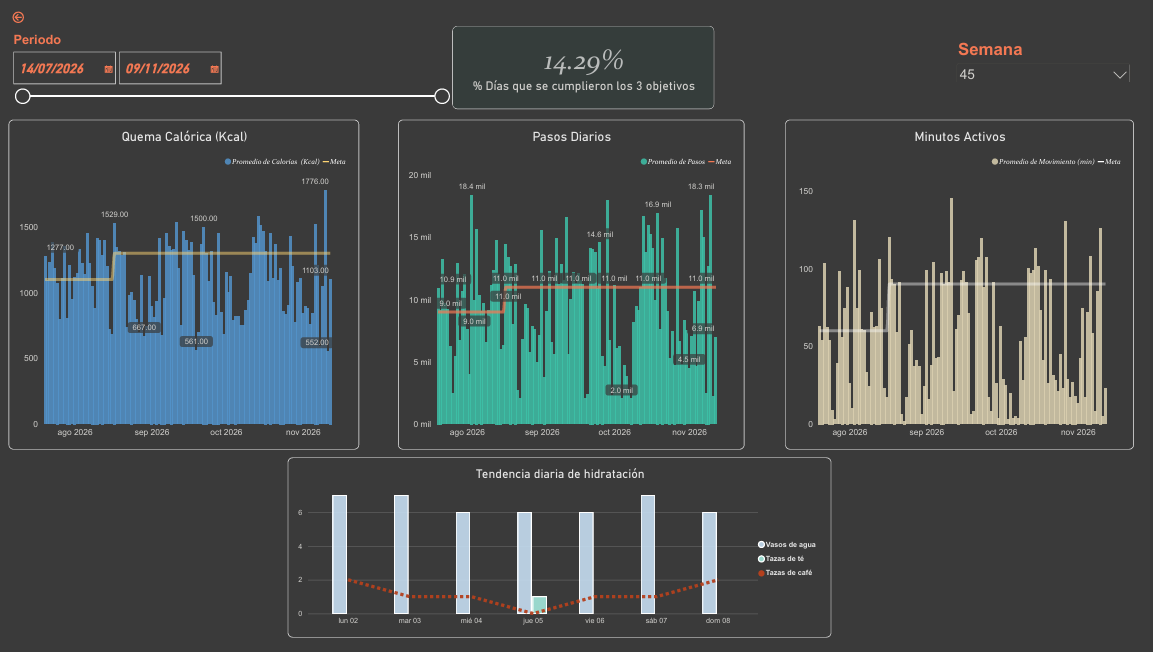

What the dashboard file says about the page in this screenshot:
{"tool":"powerbi","page":{"name":"Actividad","canvas":[1920,1080],"ordinal":3},"visuals":[{"type":"slicer","fields":{"Values":["TB_Salud.Semana"]},"box":[1594.7,77.1,300,70],"z":0},{"type":"slicer","fields":{"Values":["TB_Salud.Inicio"]},"box":[24.5,64.9,737.1,145.7],"z":1000},{"type":"lineClusteredColumnComboChart","title":"Quema Calórica (Kcal)","fields":{"Category":["TB_Entrenamiento.Fecha"],"Y":["Avg(TB_Entrenamiento.Calorías  (Kcal))"],"Y2":["TB_Entrenamiento.Meta_Calorias"]},"box":[23.9,210.1,582.6,548],"z":2000},{"type":"lineClusteredColumnComboChart","title":"Pasos Diarios","fields":{"Category":["TB_Entrenamiento.Fecha"],"Y":["Avg(TB_Entrenamiento.Pasos)"],"Y2":["TB_Entrenamiento.Meta_Steps"]},"box":[671.7,210.1,575.9,548],"z":3000},{"type":"lineClusteredColumnComboChart","title":"Minutos Activos","fields":{"Category":["TB_Entrenamiento.Fecha"],"Y":["Avg(TB_Entrenamiento.Movimiento (min))"],"Y2":["TB_Entrenamiento.Meta_Movimiento"]},"box":[1315.4,210.1,579.9,548],"z":4000},{"type":"lineClusteredColumnComboChart","title":"Tendencia diaria de hidratación","fields":{"Category":["TB_Entrenamiento.Fecha"],"Y":["Sum(TB_Entrenamiento.Vasos de agua)","Sum(TB_Entrenamiento.Taza de té)"],"Y2":["Sum(TB_Entrenamiento.Tazas de café)"]},"box":[488.1,771.4,904.4,299.3],"z":5000},{"type":"cardVisual","fields":{"Data":["TB_Entrenamiento.% Dias_Exito_Total"]},"box":[761.7,54.8,435.6,138.5],"z":7000},{"type":"actionButton","box":[0,0,80,80],"z":8000}]}

Visuals, with their boxes in screenshot pixels (x1, y1, x2, y2), scaled from the page's 1920x1080 canvas onto the 1153x652 screenshot:
slicer - TB_Salud.Semana: bbox=(958, 47, 1138, 89)
slicer - TB_Salud.Inicio: bbox=(15, 39, 457, 127)
"Quema Calórica (Kcal)" lineClusteredColumnComboChart: bbox=(14, 127, 364, 458)
"Pasos Diarios" lineClusteredColumnComboChart: bbox=(403, 127, 749, 458)
"Minutos Activos" lineClusteredColumnComboChart: bbox=(790, 127, 1138, 458)
"Tendencia diaria de hidratación" lineClusteredColumnComboChart: bbox=(293, 466, 836, 646)
cardVisual - TB_Entrenamiento.% Dias_Exito_Total: bbox=(457, 33, 719, 117)
actionButton: bbox=(0, 0, 48, 48)
